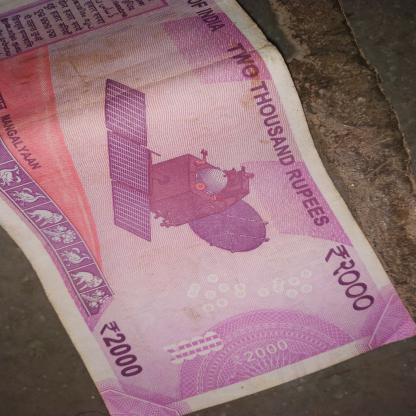New2000Back: (1, 2, 415, 416)
